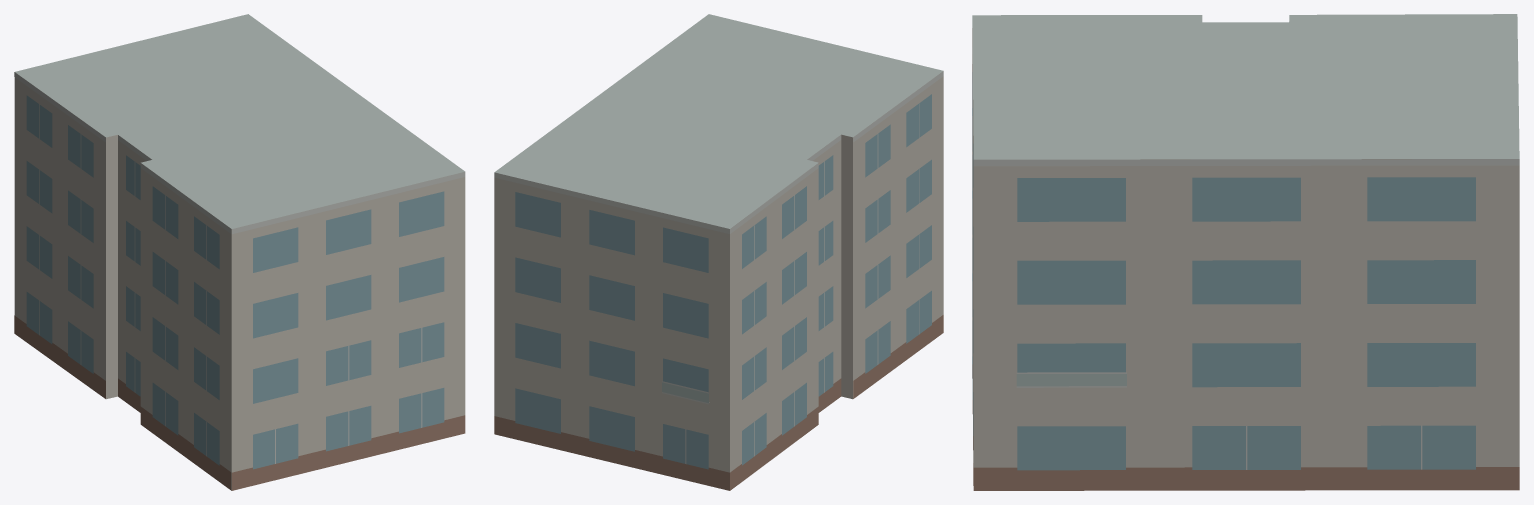
The model's file is survey-upis-32742273.glb.
3 views of the same model, side by side, from view 1: azimuth 30°, elevation 25°; view 2: azimuth 150°, elevation 25°; view 3: azimuth 270°, elevation 25° (orthographic). The views are drawn at different scales.
Visible parts, largest first — view 1: survey-upis-32742273.tmp; view 2: survey-upis-32742273.tmp; view 3: survey-upis-32742273.tmp.
Part boxes in pixels (x1,y1,x2,y2): survey-upis-32742273.tmp: (14, 14, 465, 490); survey-upis-32742273.tmp: (494, 14, 943, 490); survey-upis-32742273.tmp: (972, 14, 1519, 490).
Size of the model in its own units: 11.55 by 12.2 by 18.28.
